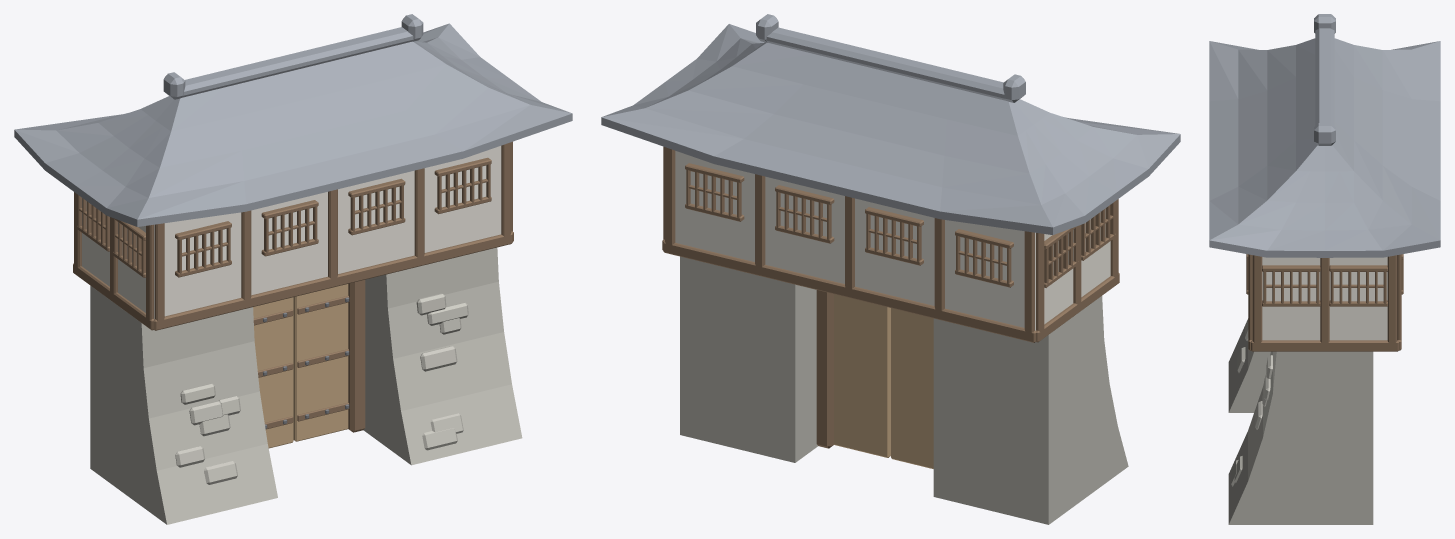
File: feudal-japan-castle-town-gate-house-2b3c821f.glb
3 renders of one model, left to right at view 1: azimuth 30°, elevation 25°; view 2: azimuth 150°, elevation 25°; view 3: azimuth 270°, elevation 25°, orthographic. The views are drawn at different scales.
Visible parts, largest first — view 1: gate-house, door-right (×2), door-left (×2); view 2: gate-house, door-right, door-left; view 3: gate-house.
Part boxes in pixels (left/top/right/bottom): gate-house: left=14, top=14, right=572, bottom=524; door-right (×2): left=293, top=284, right=349, bottom=441; door-left (×2): left=253, top=297, right=293, bottom=448; gate-house: left=601, top=14, right=1180, bottom=524; door-right: left=834, top=294, right=890, bottom=457; door-left: left=891, top=308, right=933, bottom=468; gate-house: left=1209, top=14, right=1440, bottom=524.
Size of the model in its own units: 9.8 by 8.56 by 4.8.
